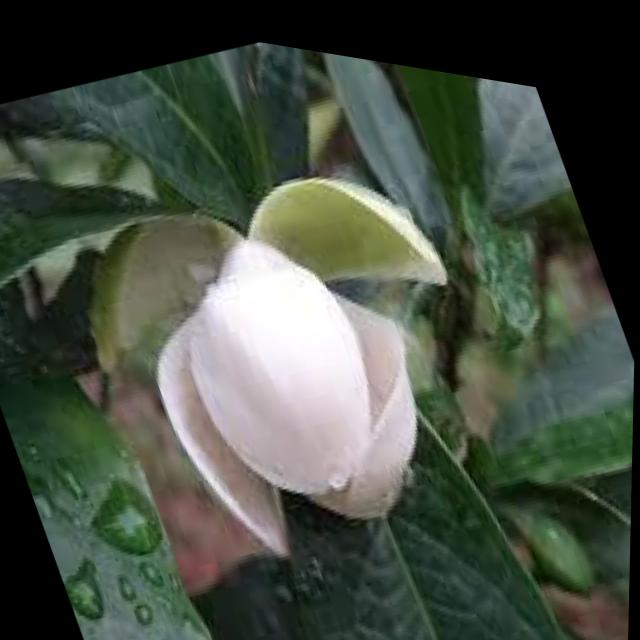Flower: (69, 85, 534, 609)
